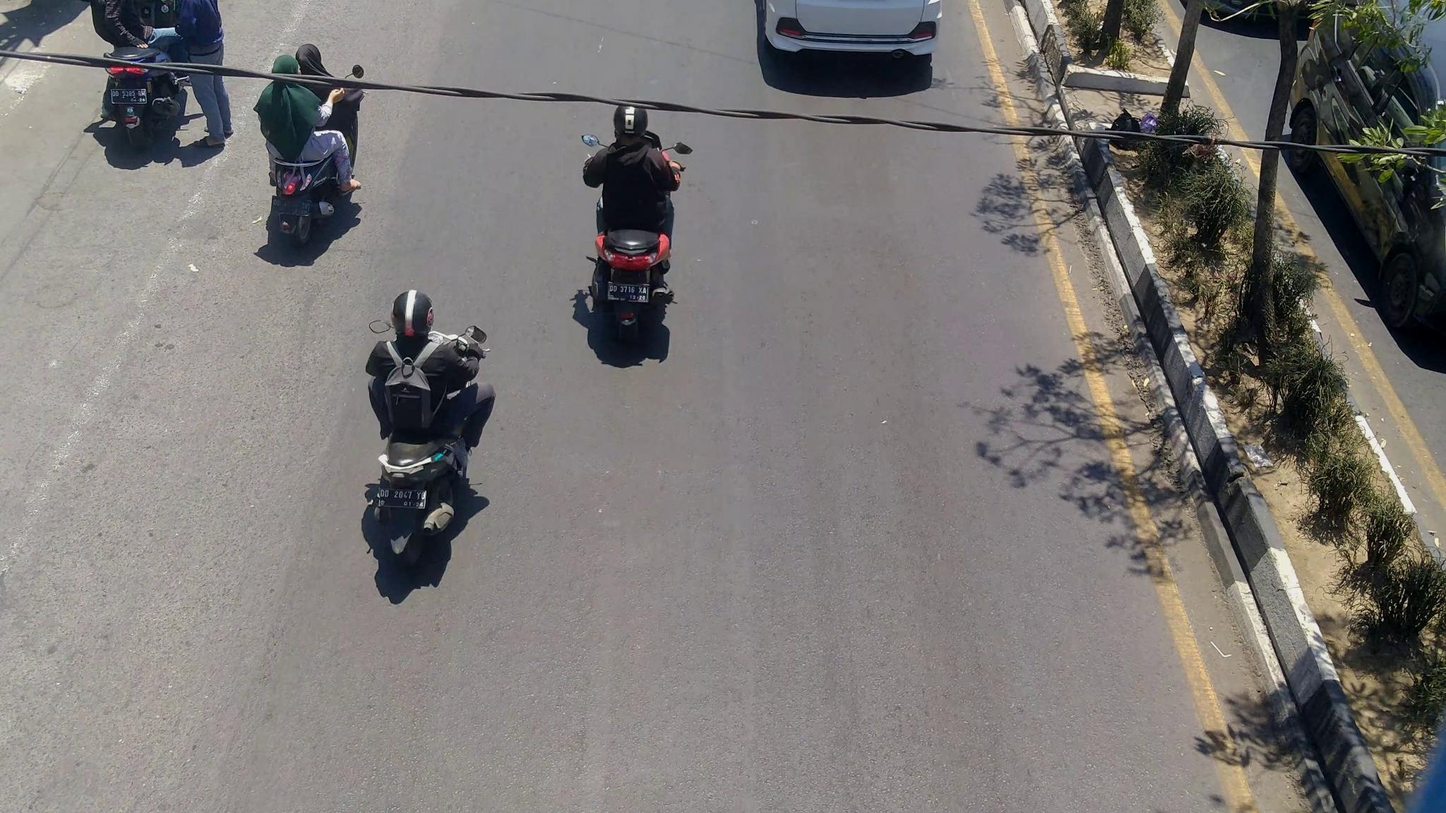Helmet: (386, 283, 439, 347), (607, 99, 653, 146)
bike: (360, 315, 491, 571), (579, 128, 691, 354), (258, 62, 368, 244)
no-helmet: (266, 52, 307, 87), (290, 40, 328, 76)
number-plate: (377, 483, 427, 508), (605, 280, 650, 305), (109, 85, 149, 105)
rider: (364, 284, 496, 468), (581, 98, 684, 240), (260, 53, 363, 193), (292, 40, 365, 141)
